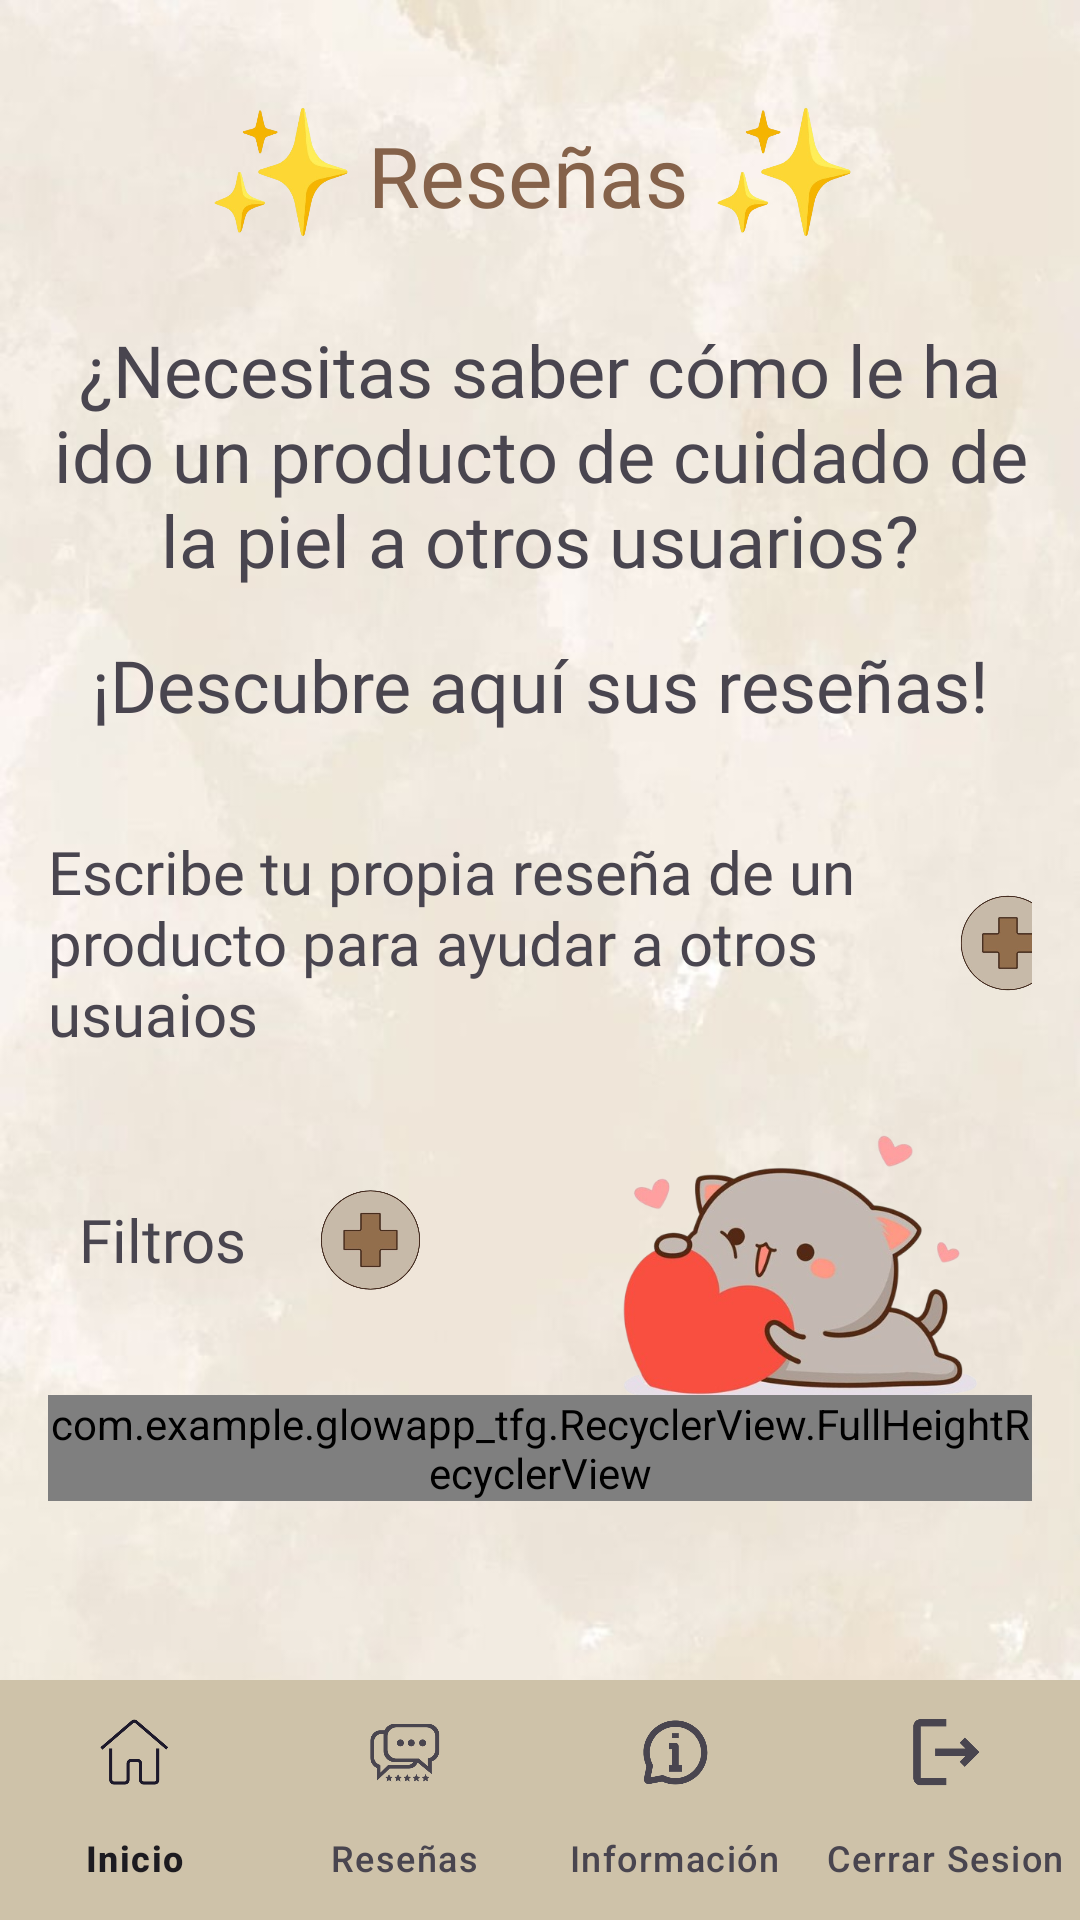

Screen size 1080px×1920px. Icon name, then its center in pixels as (x,y):
destellos: (281,172), (784,172)
